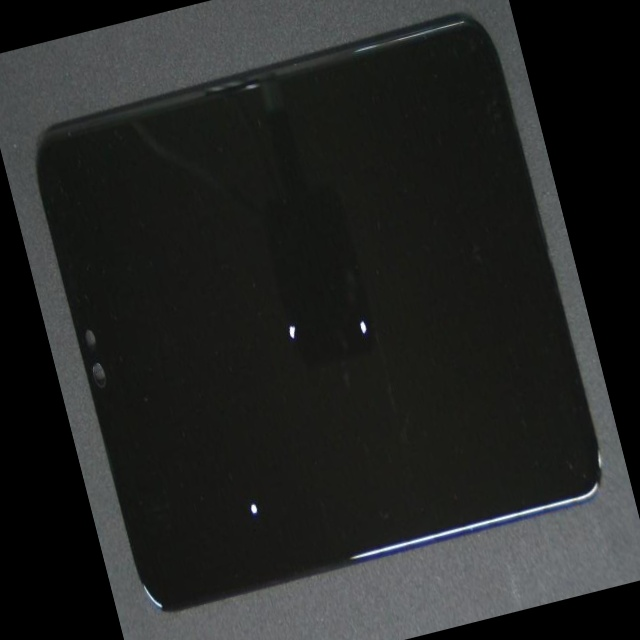stain: (176, 100, 547, 500), (129, 133, 434, 515), (110, 245, 355, 640)
